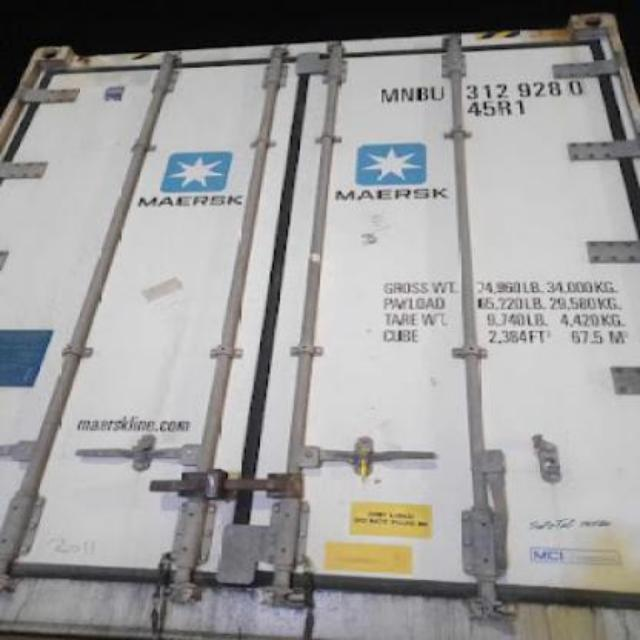0: (568, 75, 586, 101)
1: (482, 80, 496, 100)
2: (494, 79, 512, 99), (532, 78, 546, 100)
3: (462, 80, 480, 100)
8: (546, 78, 564, 98)
9: (516, 79, 530, 97)
B: (416, 79, 429, 105)
M: (380, 82, 398, 105)
N: (400, 74, 416, 108)
U: (431, 77, 444, 106)
